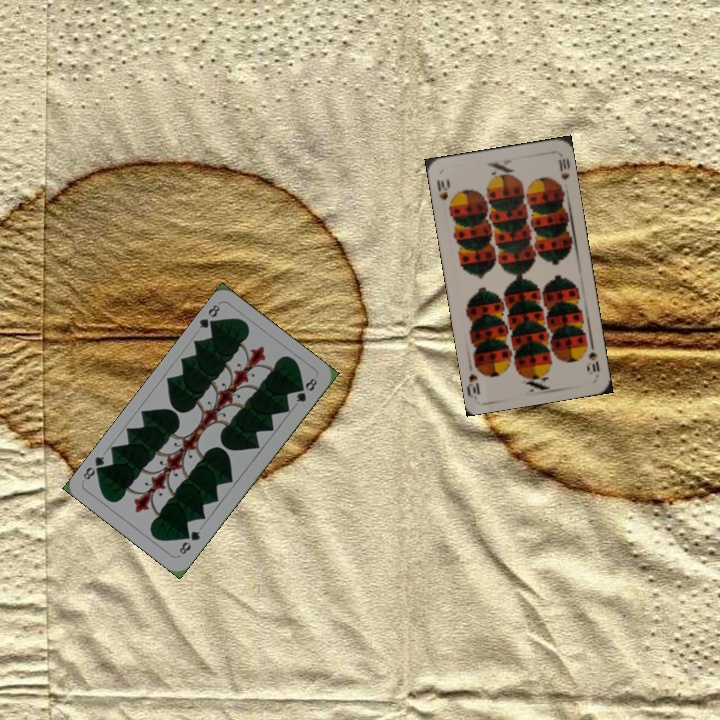G8: (195, 300, 223, 333), (175, 527, 203, 558)
S10: (433, 175, 455, 211), (584, 348, 602, 377)
